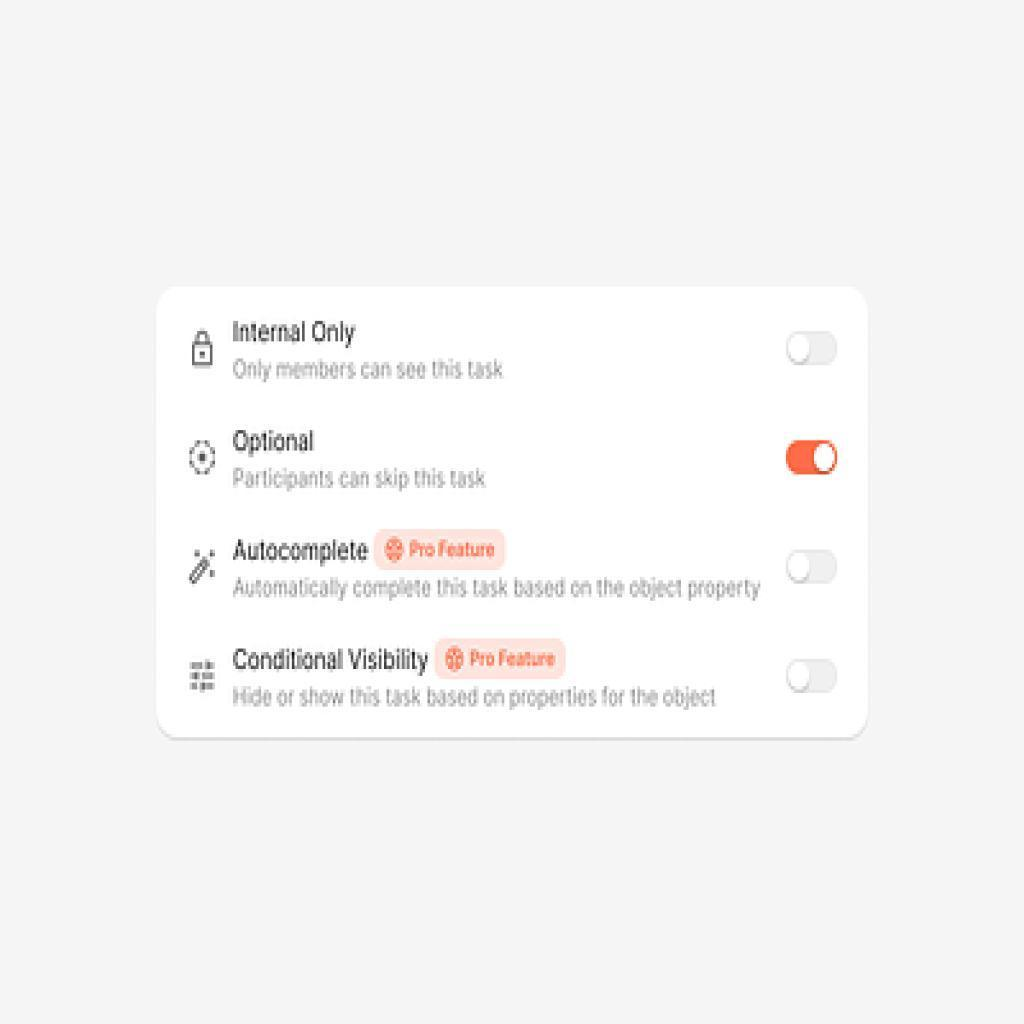switch: (786, 435, 844, 483), (786, 544, 841, 588), (787, 331, 844, 373), (786, 657, 841, 695)
